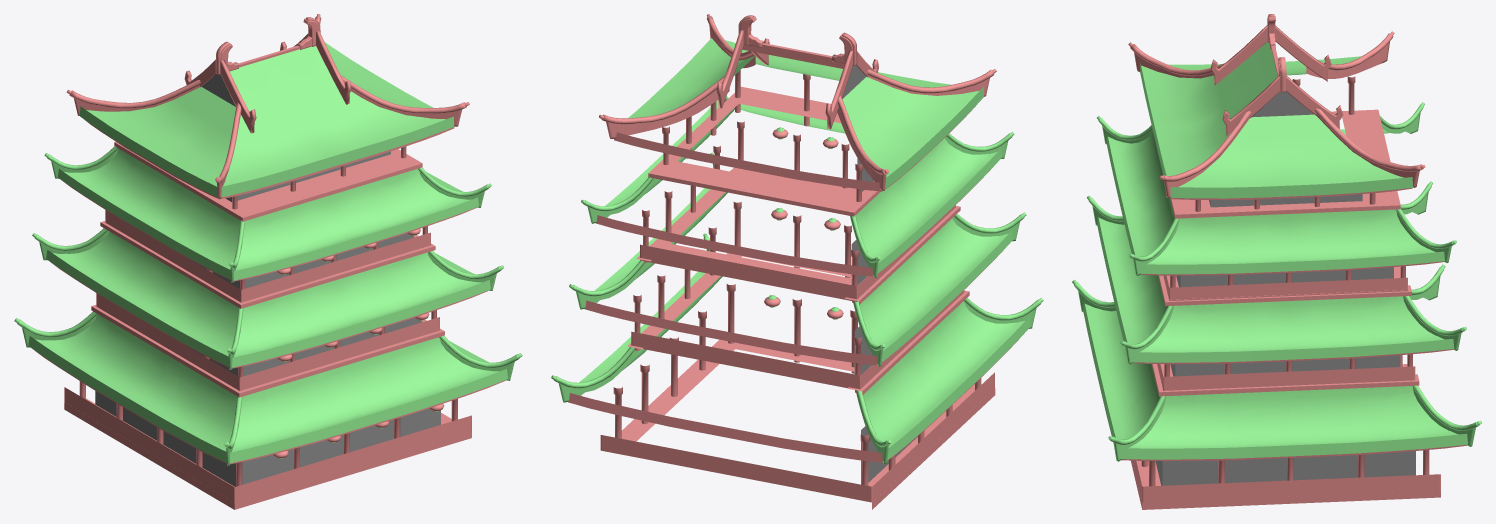
File: CHN_OOB_Building11_CMB.gltf
The picture shows the model from 3 angles, left to right: view 1: azimuth 30°, elevation 25°; view 2: azimuth 150°, elevation 25°; view 3: azimuth 270°, elevation 25°; orthographic projection. The views are drawn at different scales.
Visible parts, largest first — view 1: CHN_OOB_Building11_CMB; view 2: CHN_OOB_Building11_CMB; view 3: CHN_OOB_Building11_CMB.
Part boxes in pixels (<box>): CHN_OOB_Building11_CMB: <box>14,14,522,509</box>; CHN_OOB_Building11_CMB: <box>551,14,1043,509</box>; CHN_OOB_Building11_CMB: <box>1072,14,1481,509</box>.
Bounding box in the file's own units: 37.88 × 41.18 × 37.83.
